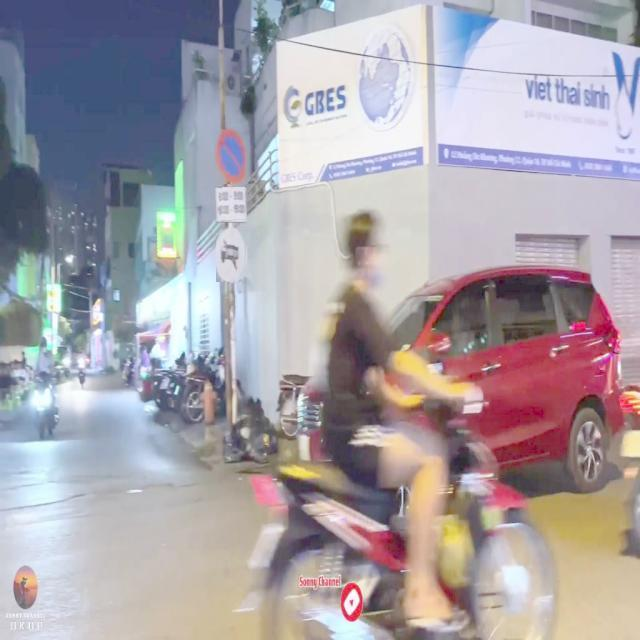106-cam-oto-tai: (216, 226, 248, 282)
131a-cam-do-xe: (214, 129, 248, 183)
